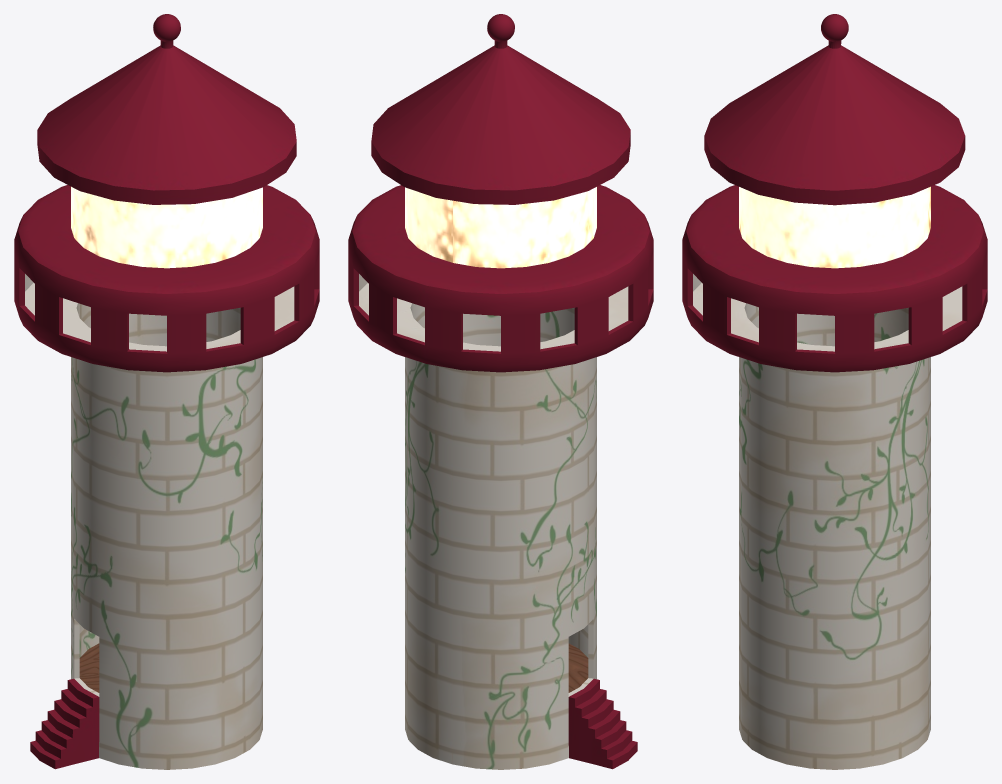
Rendered from lighthouse_tower.glb.
3 renders of one model, left to right at view 1: azimuth 30°, elevation 25°; view 2: azimuth 150°, elevation 25°; view 3: azimuth 270°, elevation 25°, orthographic.
Parts seen in each view (by area): view 1: lighthouse; view 2: lighthouse; view 3: lighthouse.
Part boxes in pixels (x1,y1,x2,y2): lighthouse: (14,14,319,769); lighthouse: (348,14,653,769); lighthouse: (682,14,987,769).
Bounding box in the file's own units: 16.85 × 43.51 × 16.85.
1 material, 1 textured.
